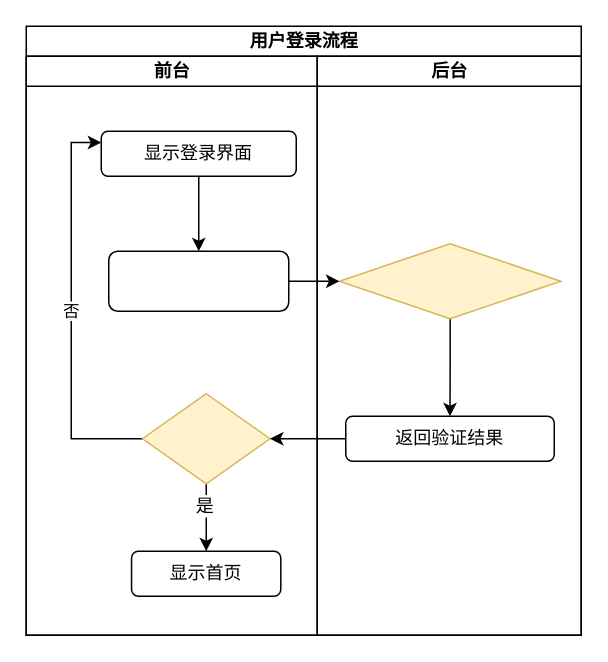
The diagram is 608 pixels wide and 662 high, and some of its shapes have lost their labels. Here are the shapes that lost their labels. From the top down, the centre of each, then its label:
pixel 198 280: 填写用户名密码信息并点击提交按钮
pixel 449 280: 验证用户名密码是否正确
pixel 205 438: 验证通过
